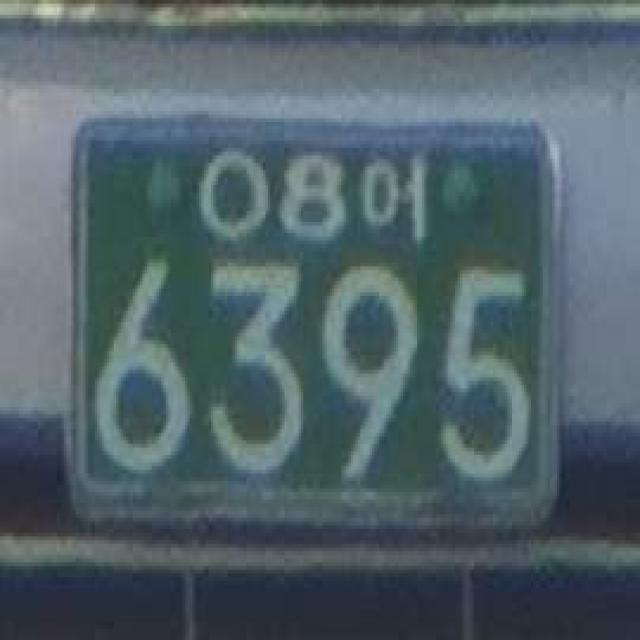illegal_plate: (62, 96, 573, 557)
